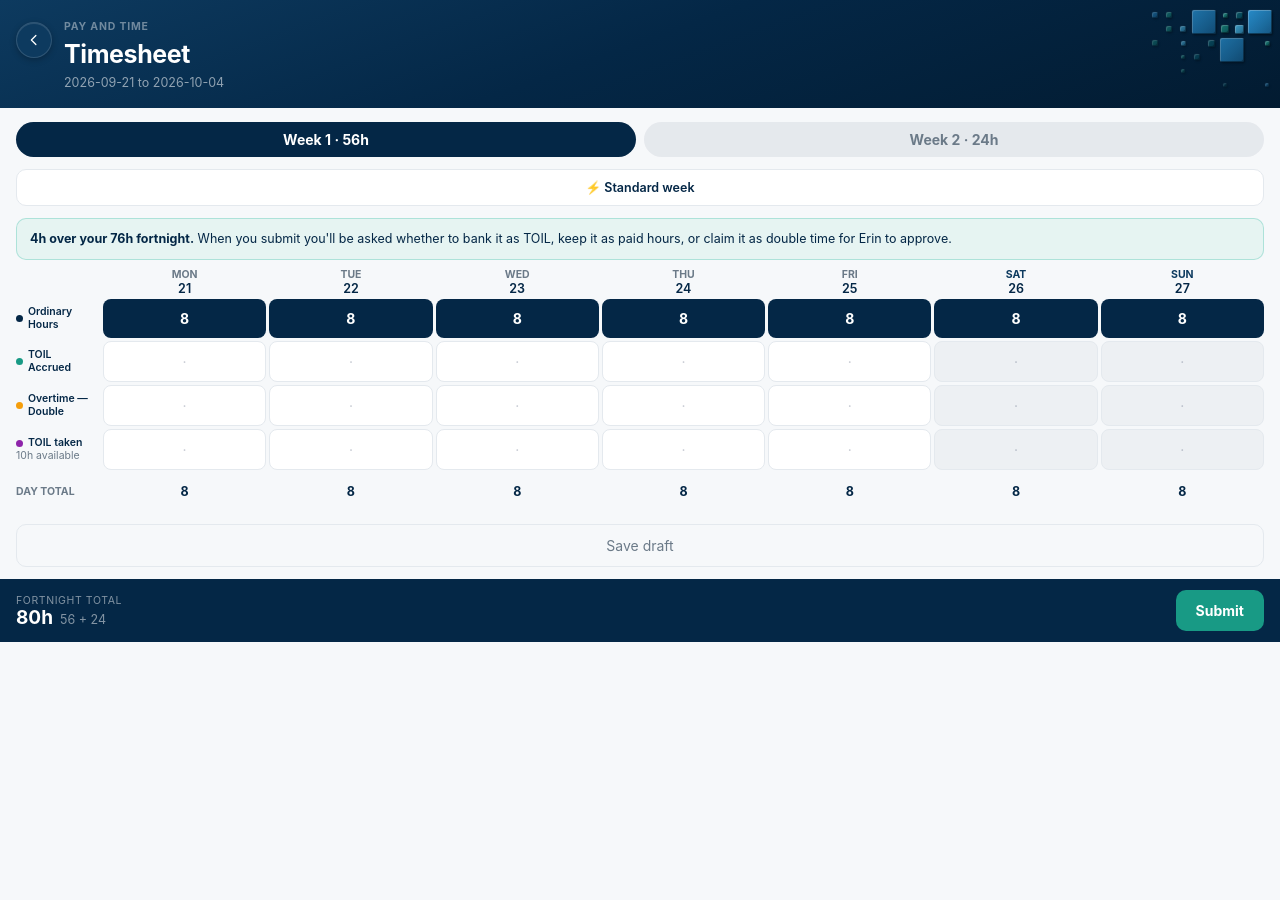
it: over or under the fortnight › over: "Claim overtime" moves the extra to double time for Erin to approve
Later steps or results of the test are not shown.
Check: the text "Ordinary Hours" is shown, box [16,305,72,331]
Click the button "Submit": (1220, 611) [1176,590,1264,631]
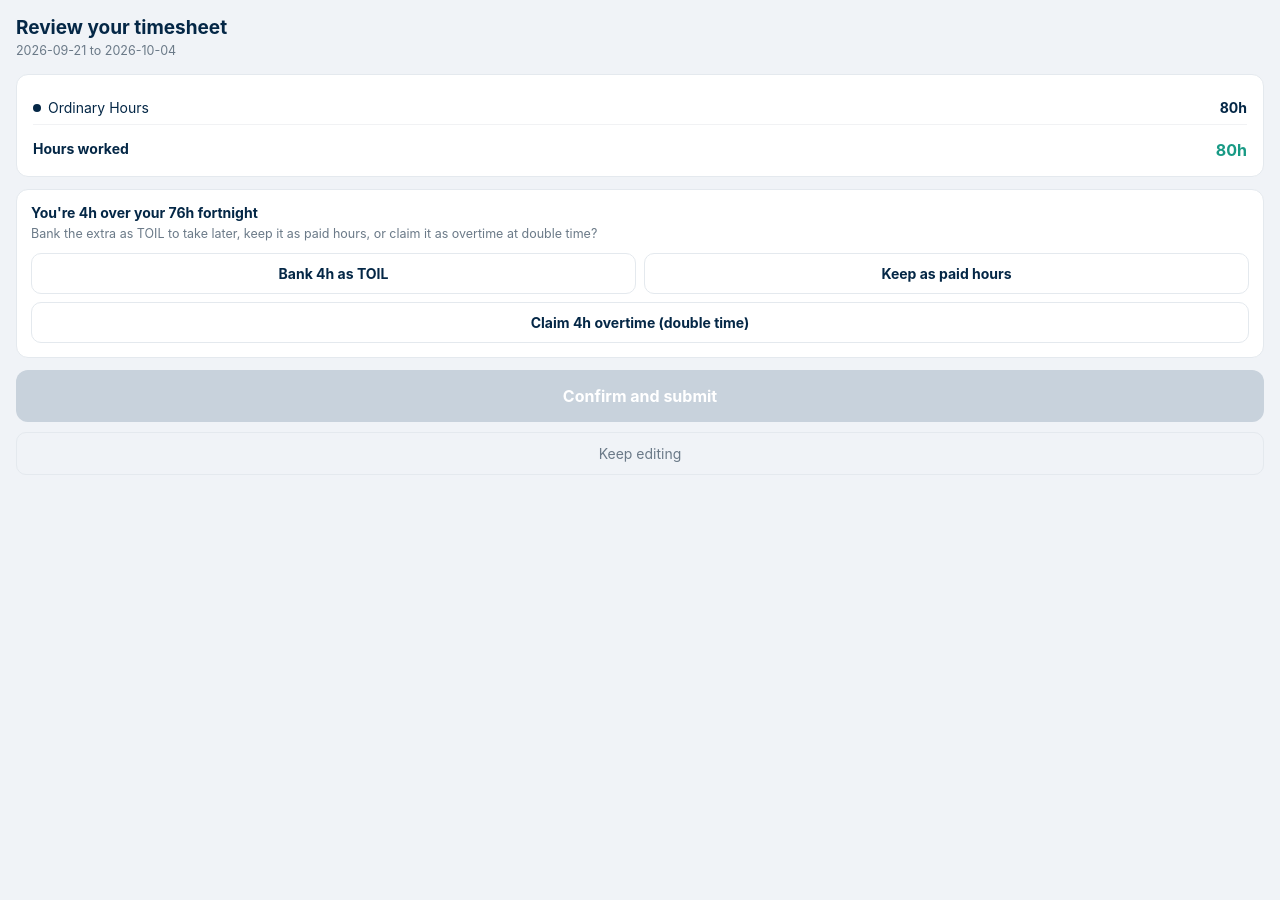
Check: the button "Claim 4h overtime (double time)" is shown
Click the button "Claim 4h overtime (double time)": (640, 323) [31,302,1249,343]
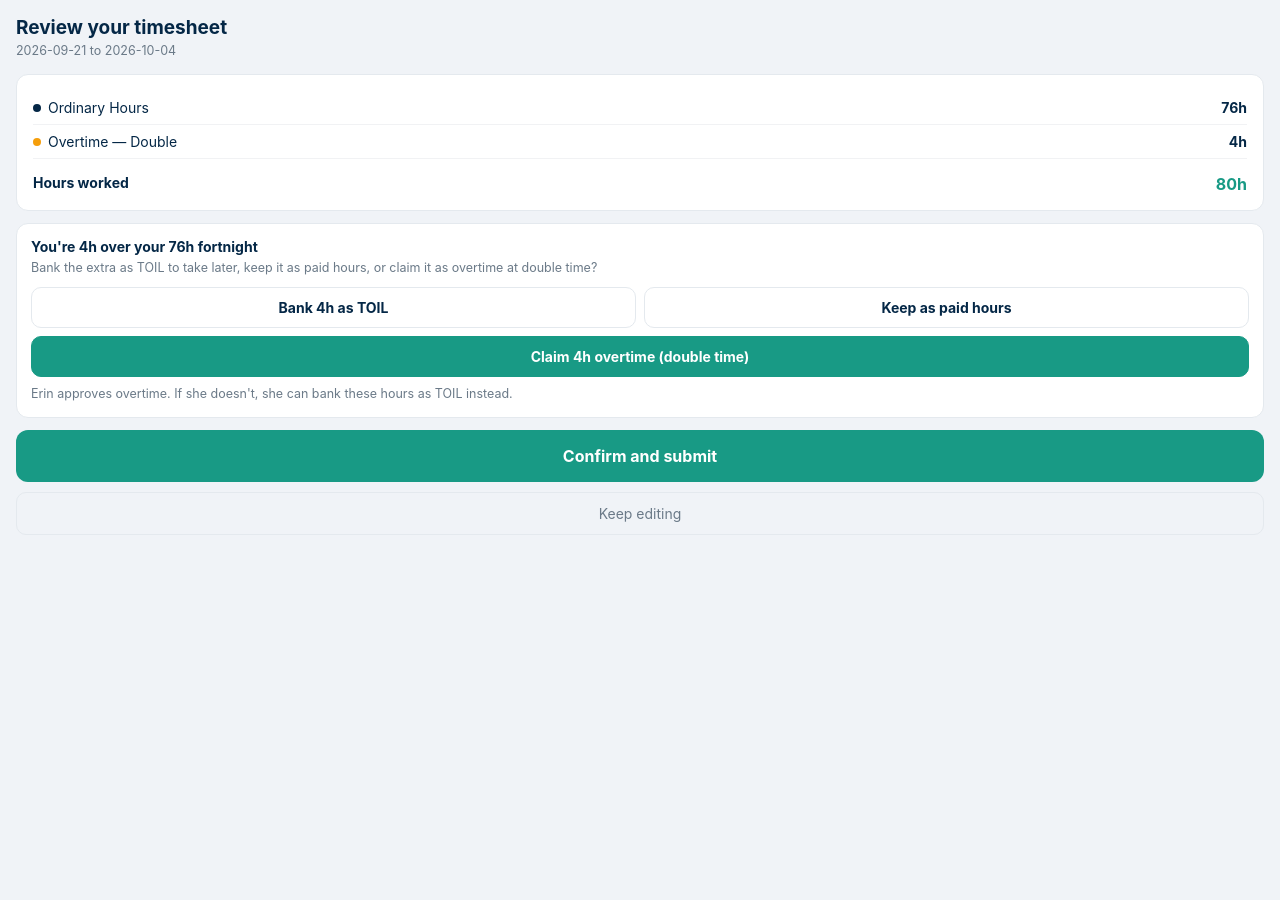
Check: the text "Erin" is shown, box [31,386,513,401]
